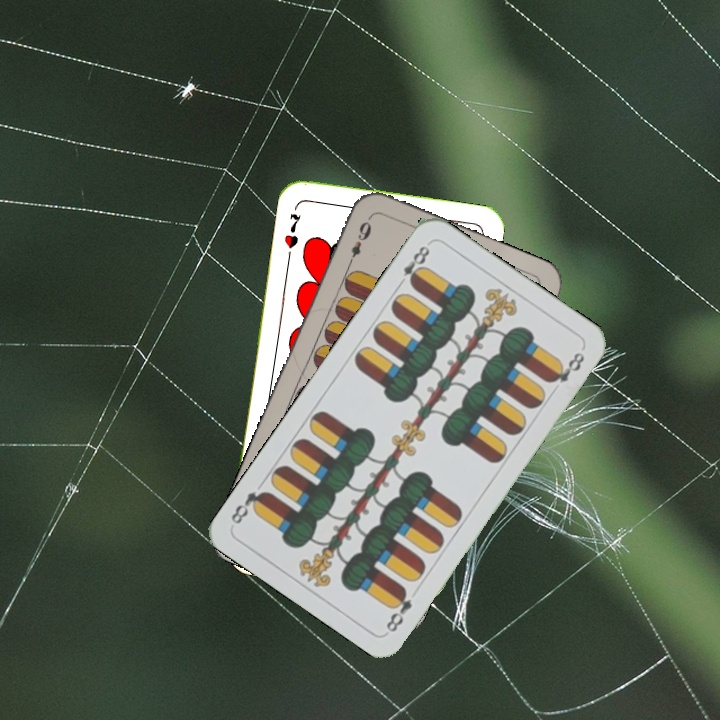E8: (393, 241, 433, 290), (382, 584, 415, 635)
E9: (343, 213, 374, 269)
H7: (280, 209, 304, 251)
